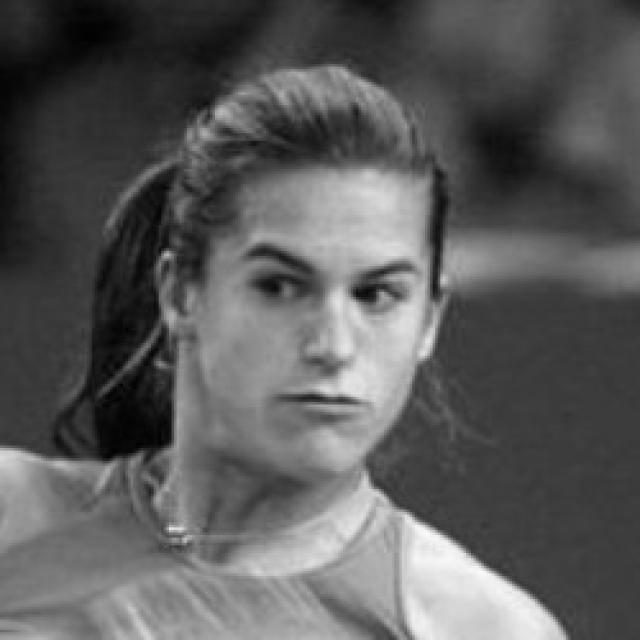real: (170, 146, 437, 483), (230, 251, 419, 315)
